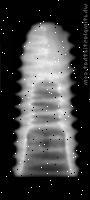Hiossen: (13, 20, 80, 176)
